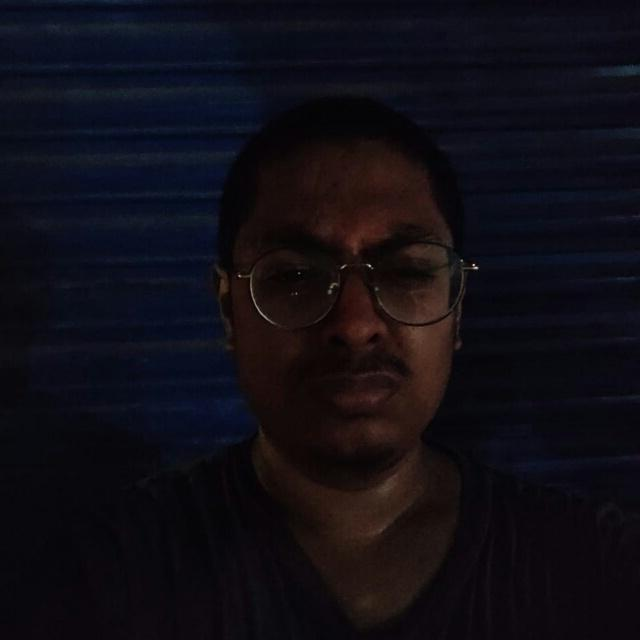Disgust: (157, 122, 529, 493)
